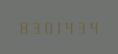eight: (17, 20, 28, 34)
four: (65, 20, 76, 34), (89, 20, 100, 34)
one: (53, 20, 64, 34)
three: (29, 20, 40, 34), (77, 20, 88, 34)
zero: (41, 20, 52, 34)
